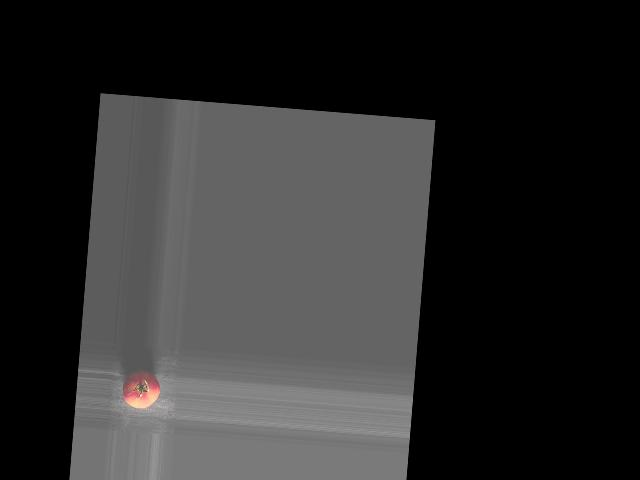tomato: (121, 369, 161, 409)
